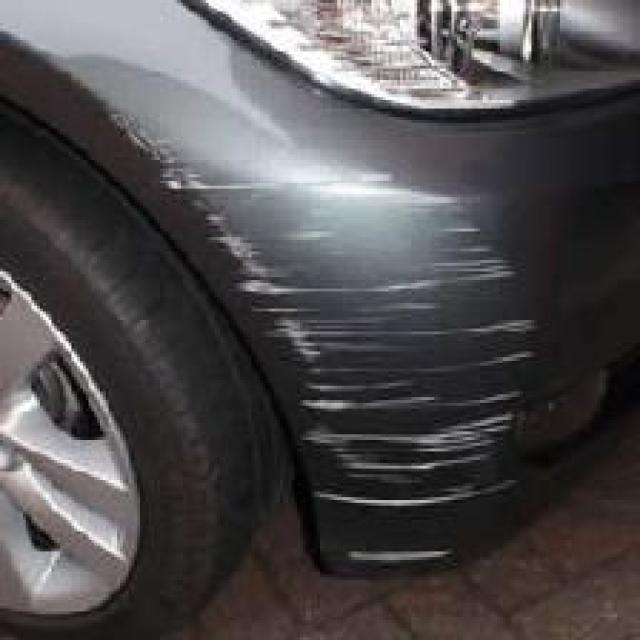bumper_scratch_moderate: (171, 163, 517, 566)
